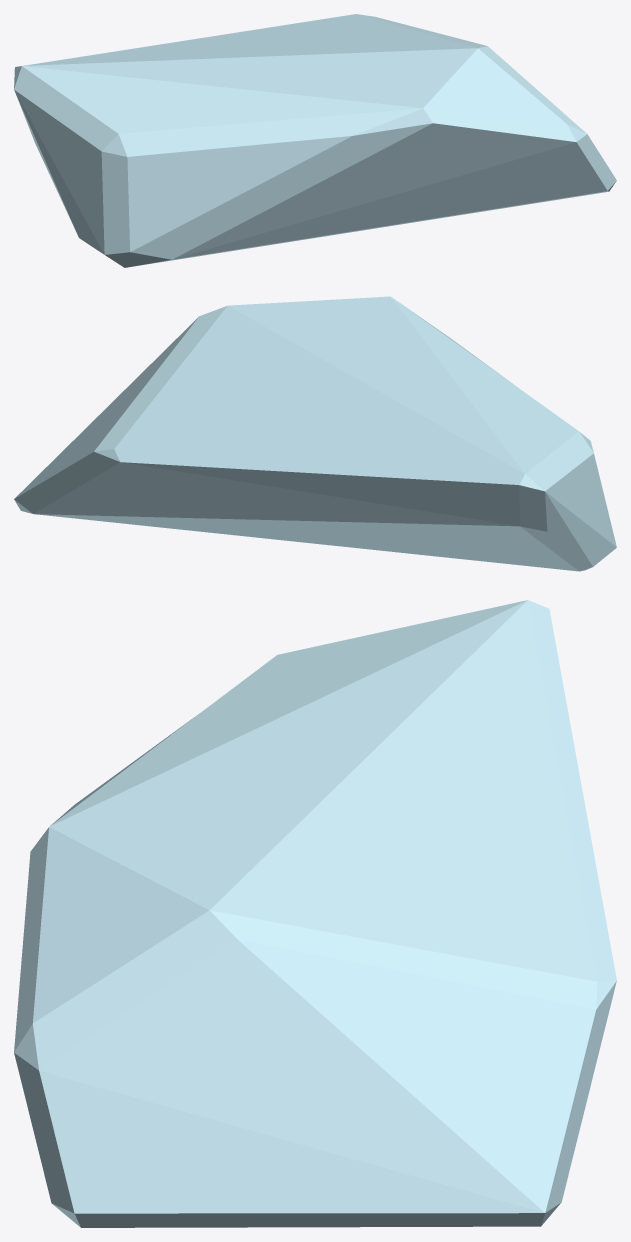
Rendered from ice_chunk_b.glb.
The picture shows the model from 3 angles, top to bottom: view 1: azimuth 30°, elevation 25°; view 2: azimuth 150°, elevation 25°; view 3: azimuth 270°, elevation 25°; orthographic projection. The views are drawn at different scales.
Parts seen in each view (by area): view 1: IceChunk; view 2: IceChunk; view 3: IceChunk.
Boxes of the visible parts, box(x1,y1,x2,y2) form: IceChunk: box(14, 14, 616, 267); IceChunk: box(14, 296, 616, 571); IceChunk: box(14, 600, 616, 1227).
Bounding box in the file's own units: 1.3 × 0.3712 × 0.8302.
